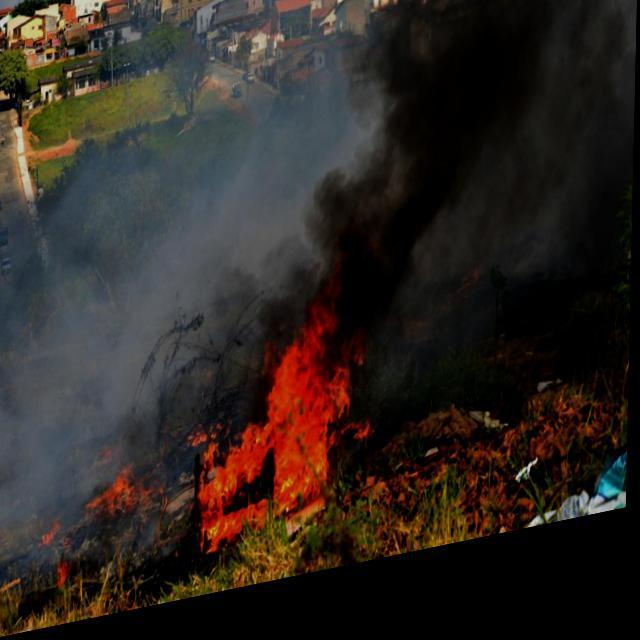Fire: (185, 290, 381, 566), (81, 458, 158, 528), (183, 420, 215, 464), (36, 524, 70, 548), (57, 558, 77, 598)
